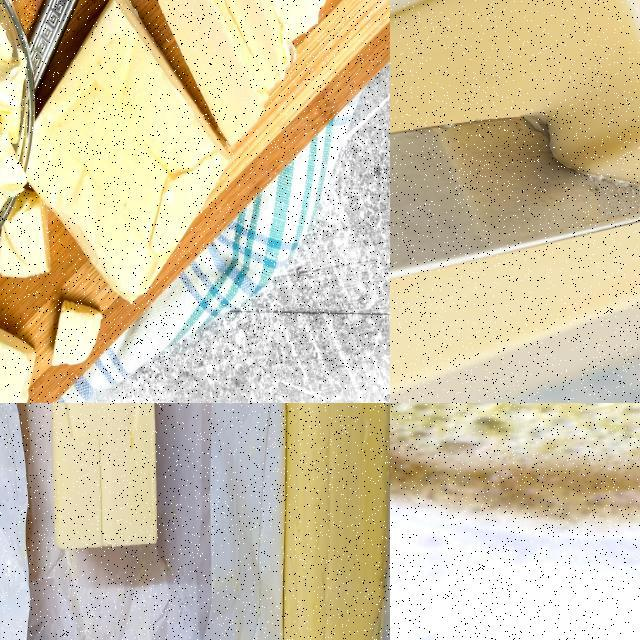Butter: (390, 0, 639, 402), (25, 0, 235, 306), (139, 0, 325, 151), (275, 403, 389, 639), (47, 403, 161, 556), (46, 302, 108, 368), (0, 327, 39, 402)
